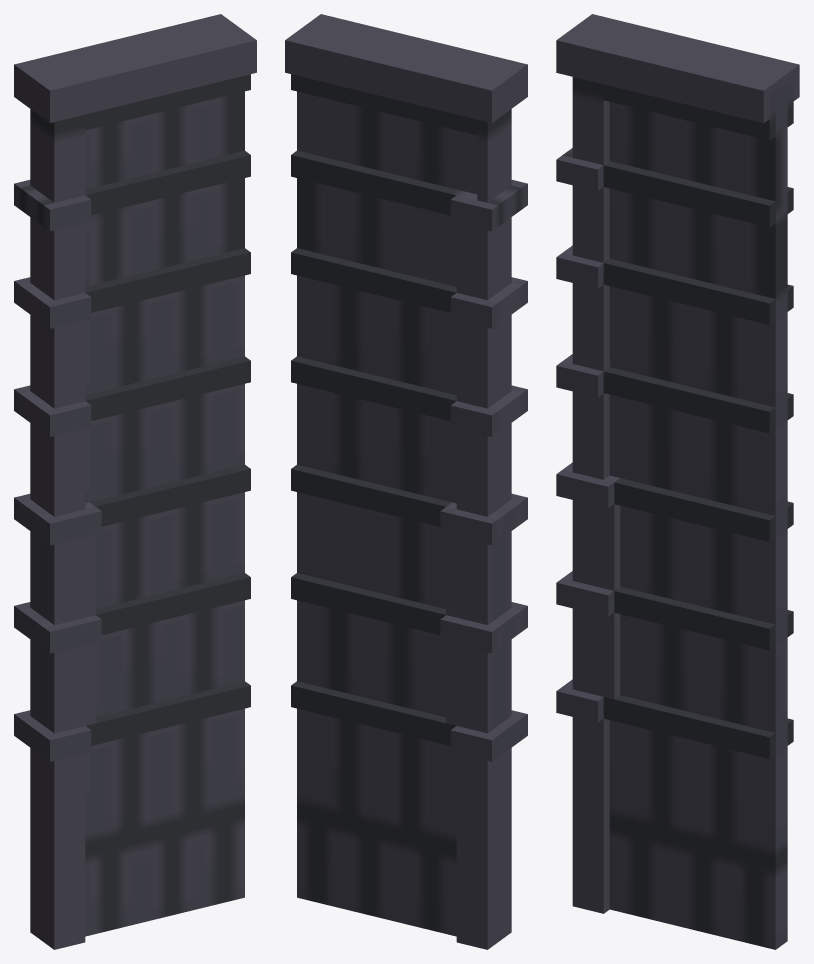
The model's file is Roof_Panel-4.fbx.
The picture shows the model from 3 angles, left to right: view 1: azimuth 30°, elevation 25°; view 2: azimuth 150°, elevation 25°; view 3: azimuth 330°, elevation 25°; orthographic projection.
Visible parts, largest first — view 1: Roof_Panel-4; view 2: Roof_Panel-4; view 3: Roof_Panel-4.
Boxes of the visible parts, left/top/right/bottom form: Roof_Panel-4: left=14, top=14, right=256, bottom=949; Roof_Panel-4: left=285, top=14, right=527, bottom=949; Roof_Panel-4: left=556, top=14, right=799, bottom=949.
Bounding box in the file's own units: 100 × 400 × 30.
